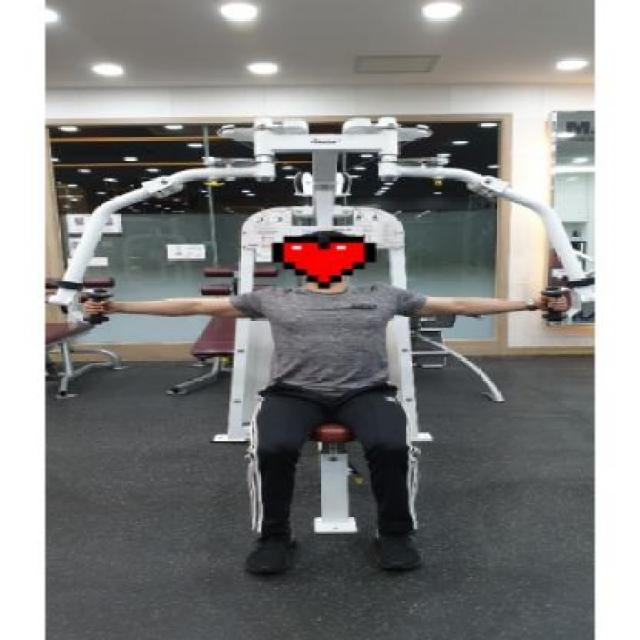chest fly machine: (38, 100, 594, 640)
